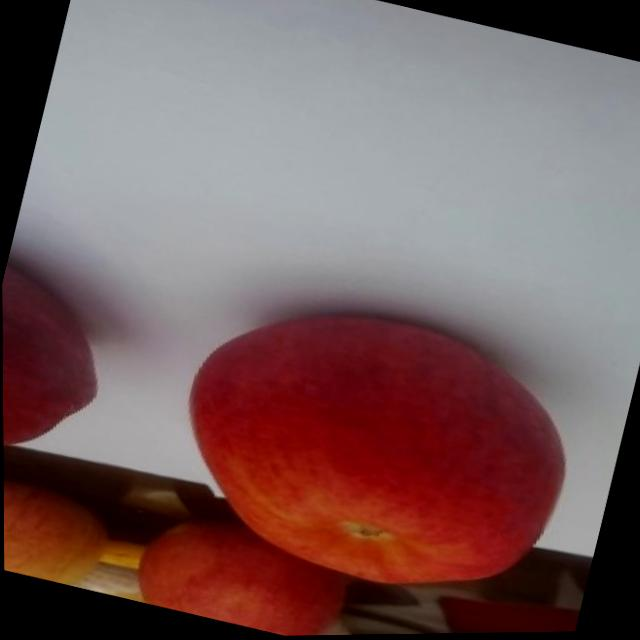Apple: (153, 270, 593, 625), (128, 499, 358, 639), (2, 258, 123, 474), (3, 462, 116, 592)
